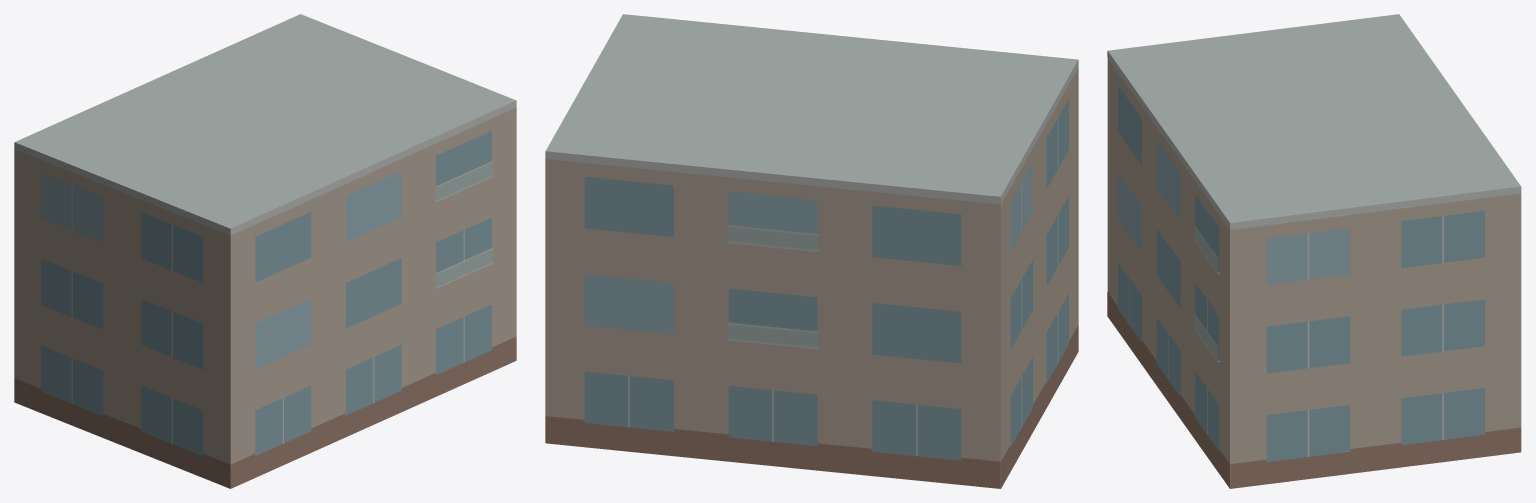
File: survey-upis-32771997.glb
3 views of the same model, side by side, from view 1: azimuth 30°, elevation 25°; view 2: azimuth 150°, elevation 25°; view 3: azimuth 270°, elevation 25° (orthographic). The views are drawn at different scales.
Parts seen in each view (by area): view 1: survey-upis-32771997.tmp; view 2: survey-upis-32771997.tmp; view 3: survey-upis-32771997.tmp.
Boxes of the visible parts, x1,y1,x2,y2 form: survey-upis-32771997.tmp: (14, 14, 516, 488); survey-upis-32771997.tmp: (545, 14, 1078, 488); survey-upis-32771997.tmp: (1107, 14, 1521, 488).
Size of the model in its own units: 15.45 by 9.15 by 12.92.
